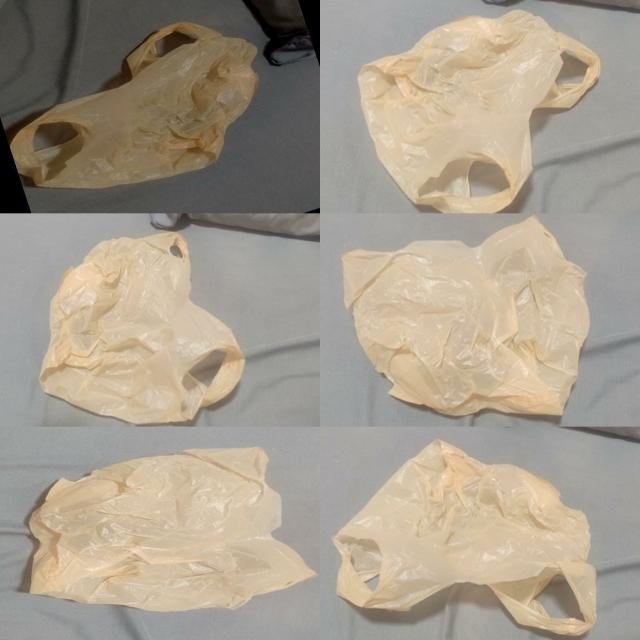Single-layer Plastic: (334, 440, 595, 635), (342, 216, 589, 415), (358, 10, 599, 212), (30, 448, 315, 611), (11, 22, 258, 188), (39, 232, 244, 424)
